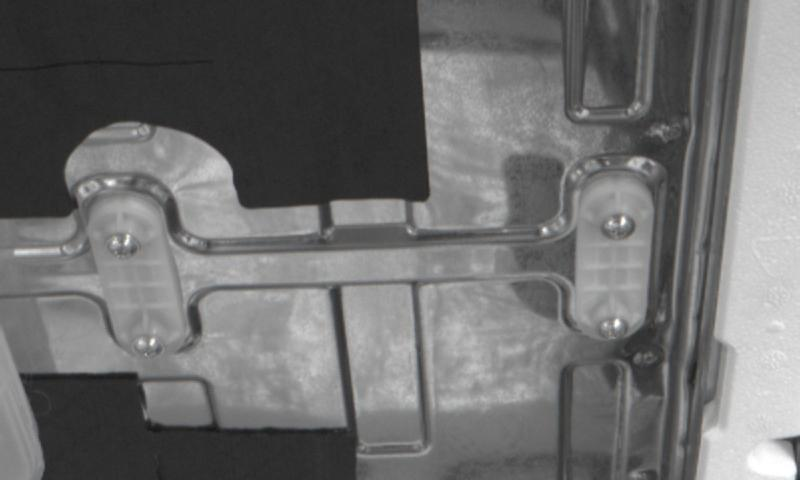vida-ok: (97, 231, 147, 277), (122, 328, 170, 368), (593, 313, 638, 353), (601, 210, 639, 249)
